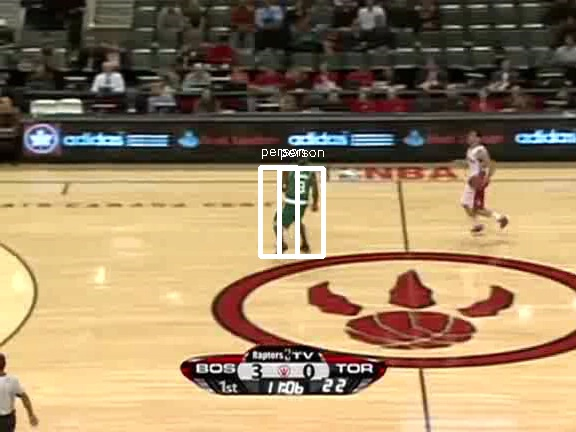person: (282, 158, 316, 239), (281, 158, 315, 239), (283, 158, 317, 239), (282, 157, 316, 238), (282, 159, 316, 240)
target_negative: (279, 110, 502, 395), (175, 195, 399, 358), (520, 134, 546, 370), (19, 317, 157, 330), (509, 314, 542, 328), (574, 261, 576, 292)
